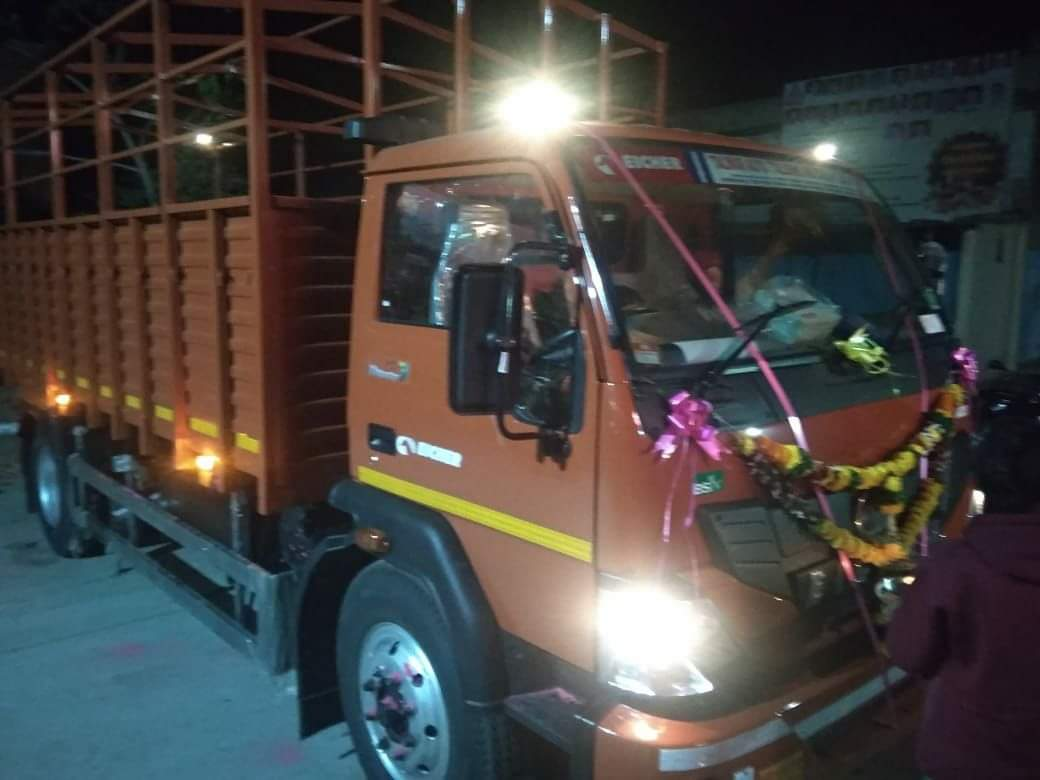truck: (27, 48, 986, 780)
